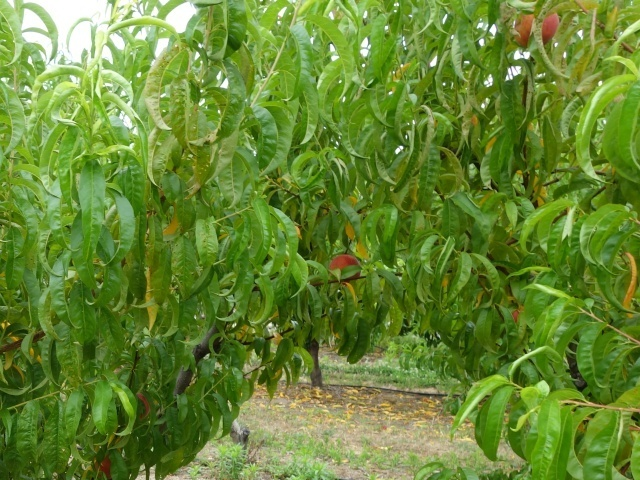peach: (504, 5, 564, 50), (325, 251, 367, 285)
